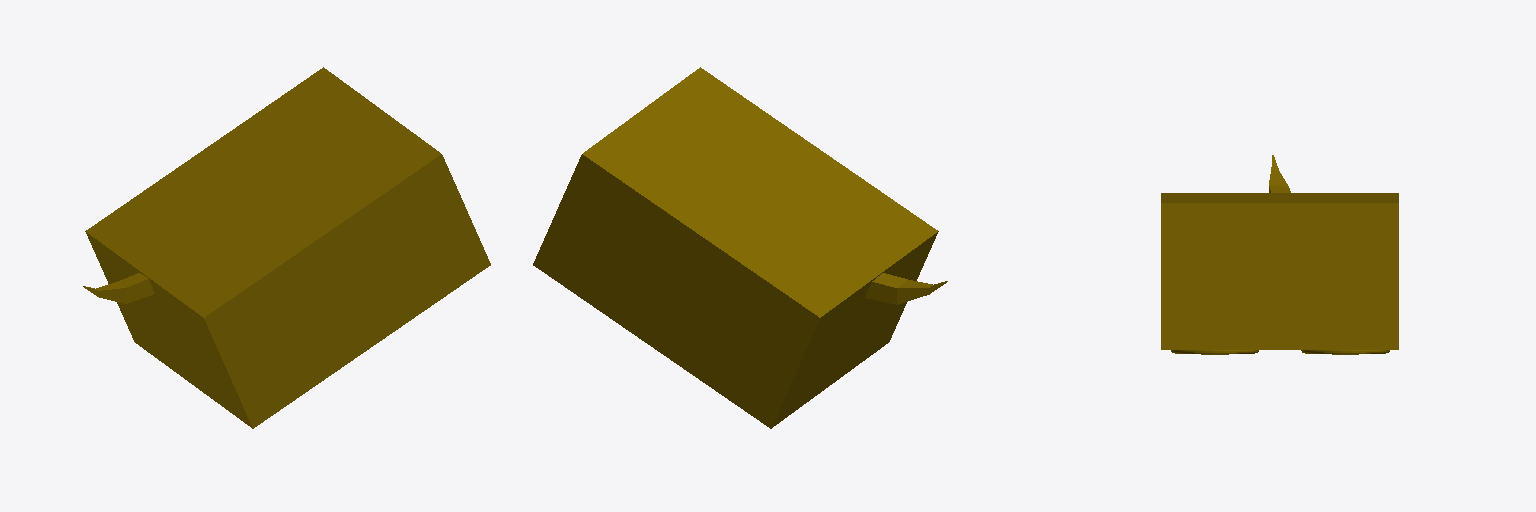
The model's file is goddard_cuerpo.obj.
3 views of the same model, side by side, from view 1: azimuth 30°, elevation 25°; view 2: azimuth 150°, elevation 25°; view 3: azimuth 270°, elevation 25° (orthographic).
Parts seen in each view (by area): view 1: goddard_cuerpo; view 2: goddard_cuerpo; view 3: goddard_cuerpo.
Part boxes in pixels (x1,y1,x2,y2): goddard_cuerpo: (83, 67, 490, 428); goddard_cuerpo: (533, 67, 947, 428); goddard_cuerpo: (1161, 155, 1398, 354).
Bounding box in the file's own units: 4.24 × 2.63 × 2.47.